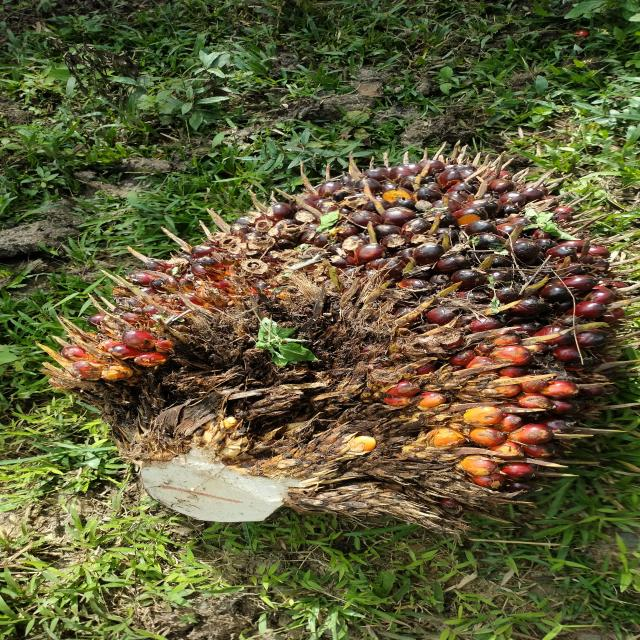fraksi 1: (24, 104, 640, 595)
